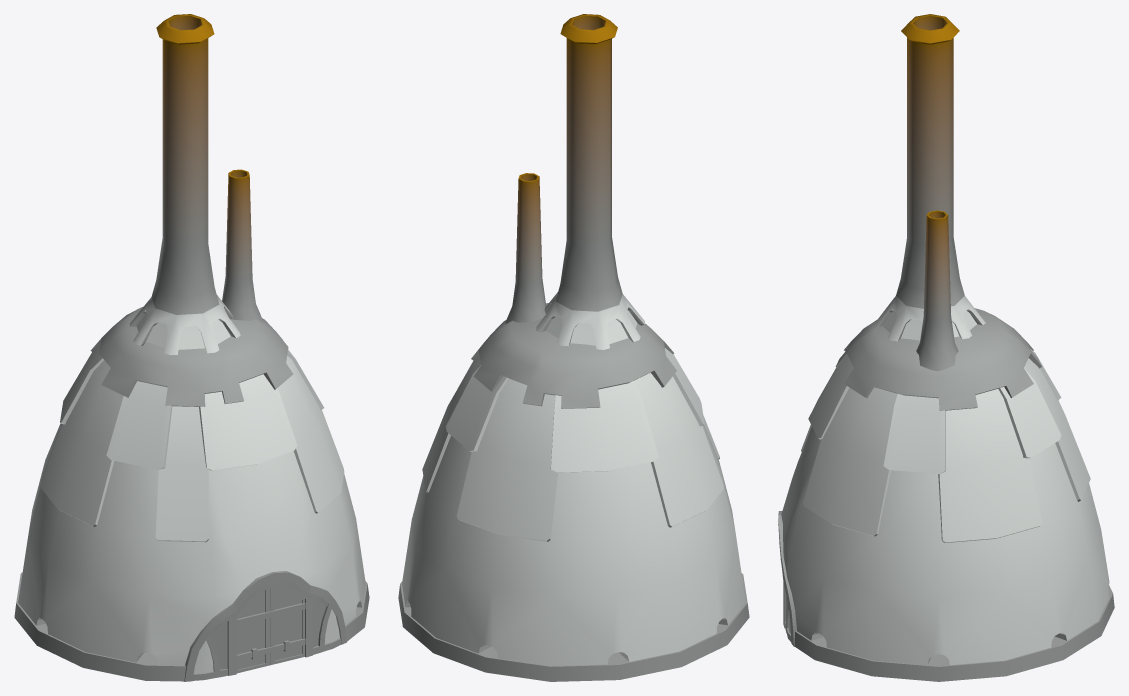
3 renders of one model, left to right at view 1: azimuth 30°, elevation 25°; view 2: azimuth 150°, elevation 25°; view 3: azimuth 270°, elevation 25°, orthographic.
Visible parts, largest first — view 1: G:\FFXIV-MapTools\exports\n4f2\bg\ex3\01_nvt_n4\fld\n4f2\bgp (×8); view 2: G:\FFXIV-MapTools\exports\n4f2\bg\ex3\01_nvt_n4\fld\n4f2\bgp (×6); view 3: G:\FFXIV-MapTools\exports\n4f2\bg\ex3\01_nvt_n4\fld\n4f2\bgp (×7).
Boxes of the visible parts, x1=… form: G:\FFXIV-MapTools\exports\n4f2\bg\ex3\01_nvt_n4\fld\n4f2\bgp (×8): x1=14, y1=14, x2=369, y2=681; G:\FFXIV-MapTools\exports\n4f2\bg\ex3\01_nvt_n4\fld\n4f2\bgp (×6): x1=398, y1=14, x2=749, y2=681; G:\FFXIV-MapTools\exports\n4f2\bg\ex3\01_nvt_n4\fld\n4f2\bgp (×7): x1=778, y1=14, x2=1114, y2=681.
Size of the model in its own units: 5.73 by 10.42 by 5.48.
